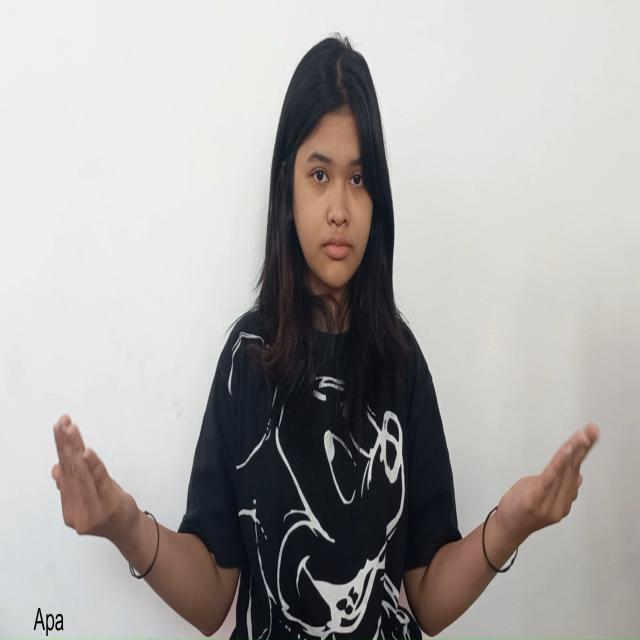Apa -BISINDO-: (48, 408, 601, 546)
